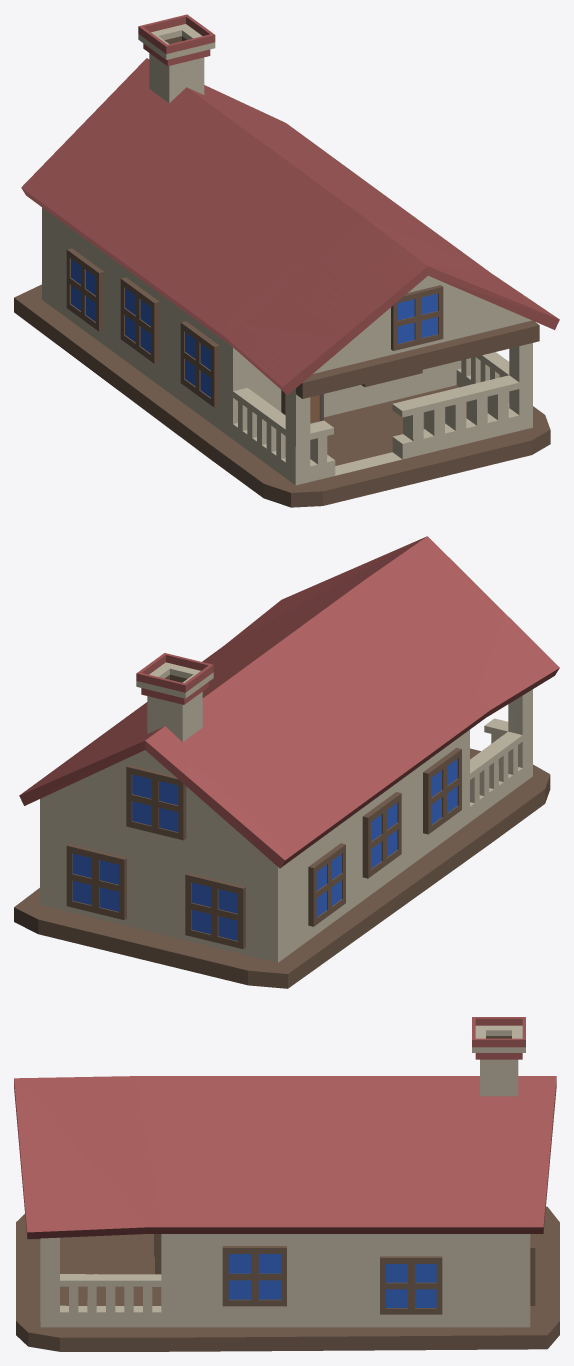
File: FMP_Middle_House_Shaded_1.fbx
3 views of the same model, one above another, from view 1: azimuth 30°, elevation 25°; view 2: azimuth 150°, elevation 25°; view 3: azimuth 270°, elevation 25° (orthographic). The views are drawn at different scales.
Parts seen in each view (by area): view 1: polySurface59; view 2: polySurface59; view 3: polySurface59.
Boxes of the visible parts, x1,y1,x2,y2 form: polySurface59: (14,14,559,507); polySurface59: (14,536,559,988); polySurface59: (14,1017,559,1351).
Bounding box in the file's own units: 691 × 625 × 1204.
